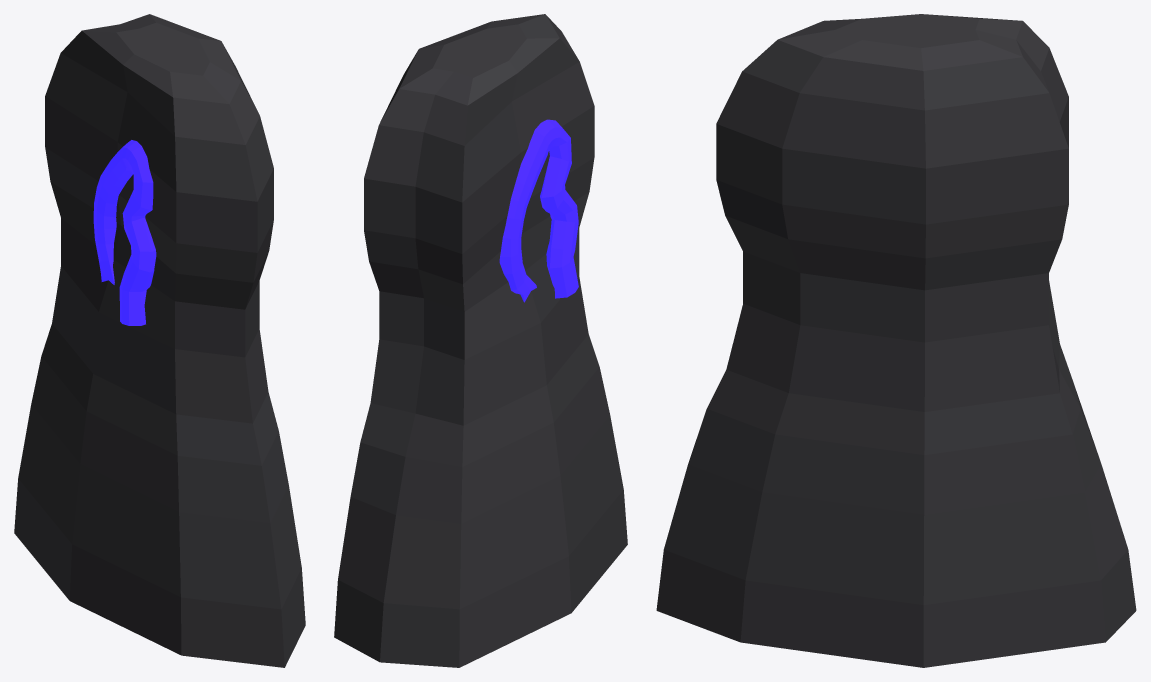
The model's file is Magic_Rune.fbx.
The picture shows the model from 3 angles, left to right: view 1: azimuth 30°, elevation 25°; view 2: azimuth 150°, elevation 25°; view 3: azimuth 270°, elevation 25°; orthographic projection. The views are drawn at different scales.
Parts seen in each view (by area): view 1: Cube, Cube.001; view 2: Cube, Cube.001; view 3: Cube.
Part boxes in pixels (x1,y1,x2,y2): Cube: (14,14,305,667); Cube.001: (93,140,156,325); Cube: (334,14,627,667); Cube.001: (499,119,578,302); Cube: (656,14,1136,667).
Bounding box in the file's own units: 587 × 1492 × 1117.
